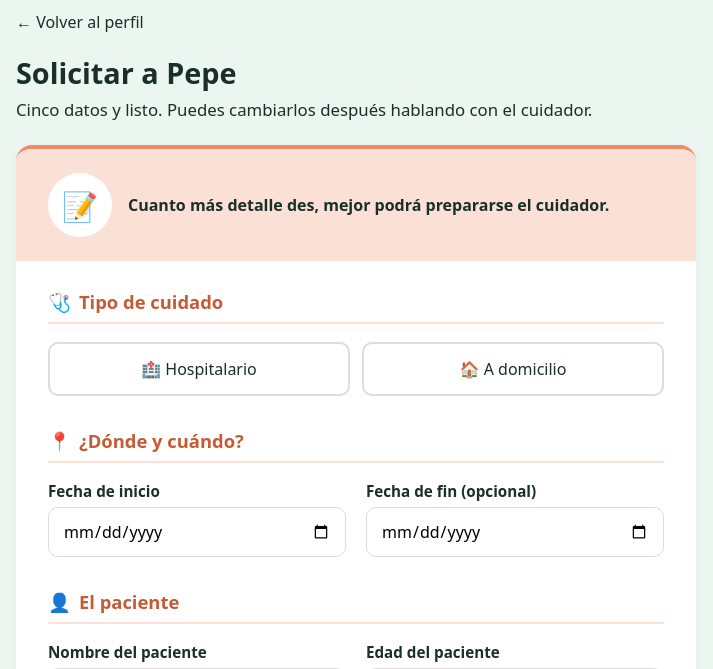
Scenario: SolicitarServicioView › pide hospital y ubicación si es hospitalario, y dirección si es a domicilio
This screenshot has width=713, height=669.
What coordinates should you click on to do the following:
click the button with class "solicitar__opcion" showing "🏠 A domicilio"
I would click on:
 (513, 369)
Its box is [362,342,664,396].
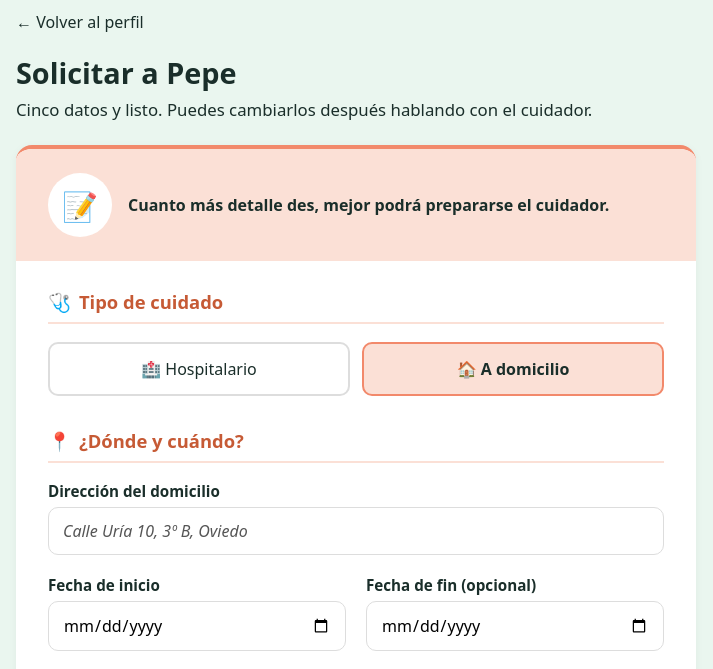
Now the field with id "direccion" is shown, box [48,507,664,555]
What coordinates should you click on to do the following:
click the button with class "solicitar__opcion" showing "🏥 Hospitalario"
I would click on:
 (199, 369)
Its box is [48,342,350,396].
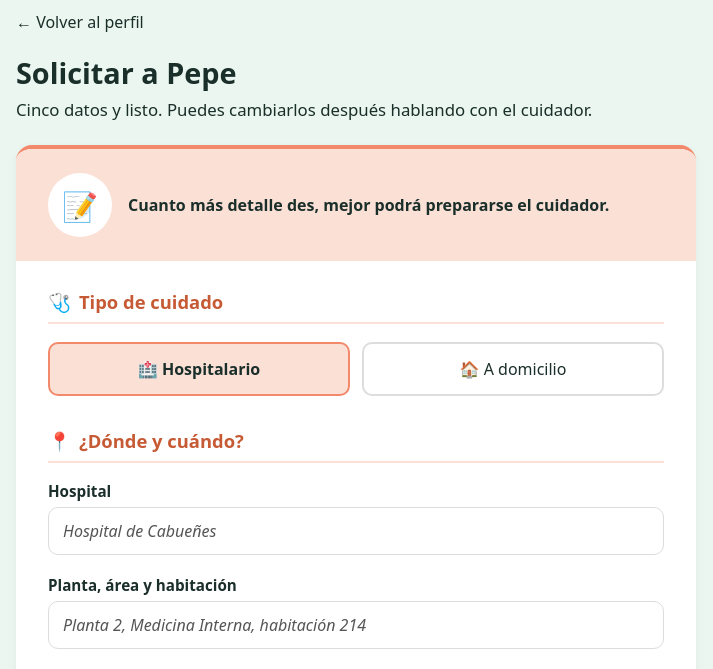
Now the field with id "hospital" is shown, box [48,507,664,555]
Now the field with id "ubicacion" is shown, box [48,601,664,649]
